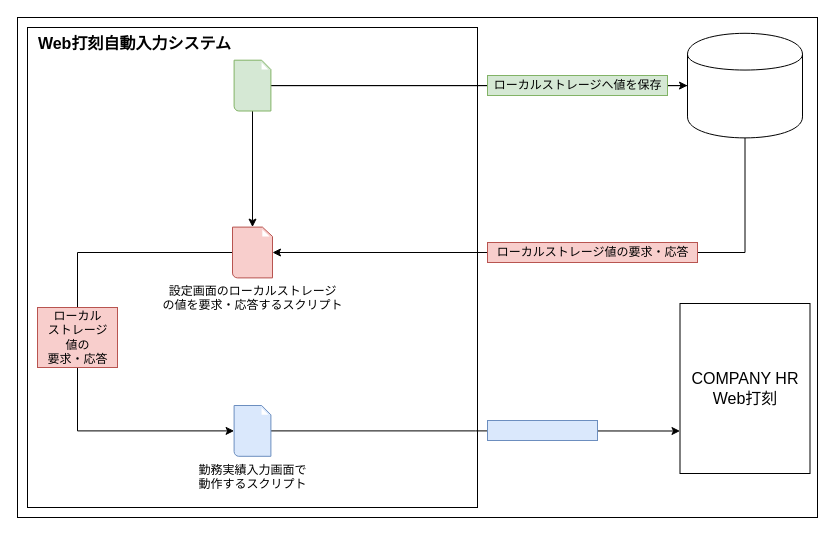
Image size: 835x535. Some labels were removed from this diagram. Here are the shapes that lost their labels. From the top down, the centre of each, then its label:
At point 252,85: "設定画面で動作する スクリプト".
At point 744,85: "ローカルストレージ".
At point 542,430: "設定値の自動入力".
